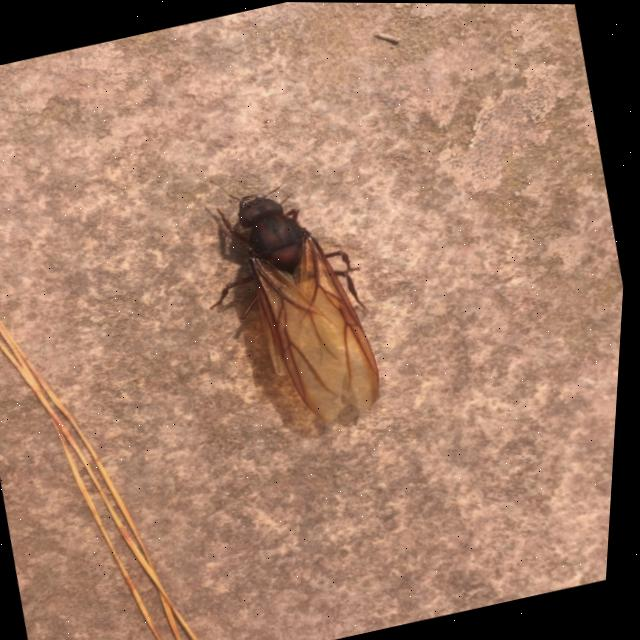Alive-Female-Alate: (176, 147, 405, 447)
